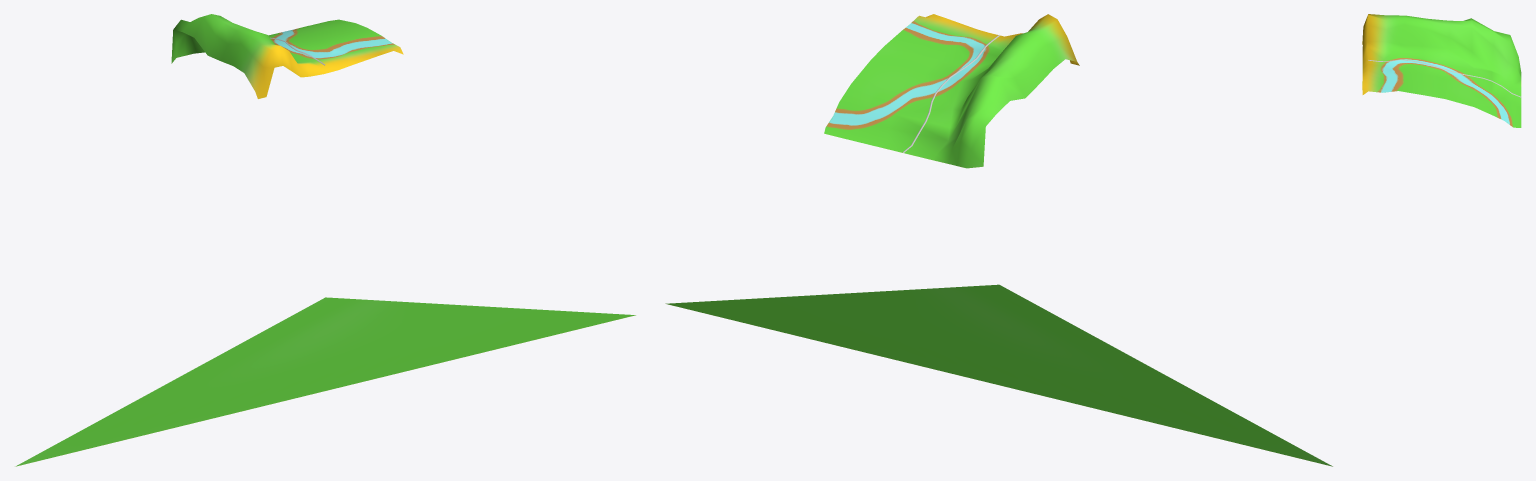
The model's file is L_vsle1.fbx.
3 views of the same model, side by side, from view 1: azimuth 30°, elevation 25°; view 2: azimuth 150°, elevation 25°; view 3: azimuth 270°, elevation 25° (orthographic). The views are drawn at different scales.
Visible parts, largest first — view 1: Obj, Locadd; view 2: Obj, Locadd; view 3: Locadd, WireSS1.
Boxes of the visible parts, x1,y1,x2,y2 form: Obj: (15, 297, 635, 466); Locadd: (171, 14, 403, 98); Obj: (665, 284, 1332, 466); Locadd: (824, 14, 1079, 168); Locadd: (1362, 14, 1521, 127); WireSS1: (1368, 59, 1521, 97).
Bounding box in the file's own units: 200 × 109 × 52.14.
